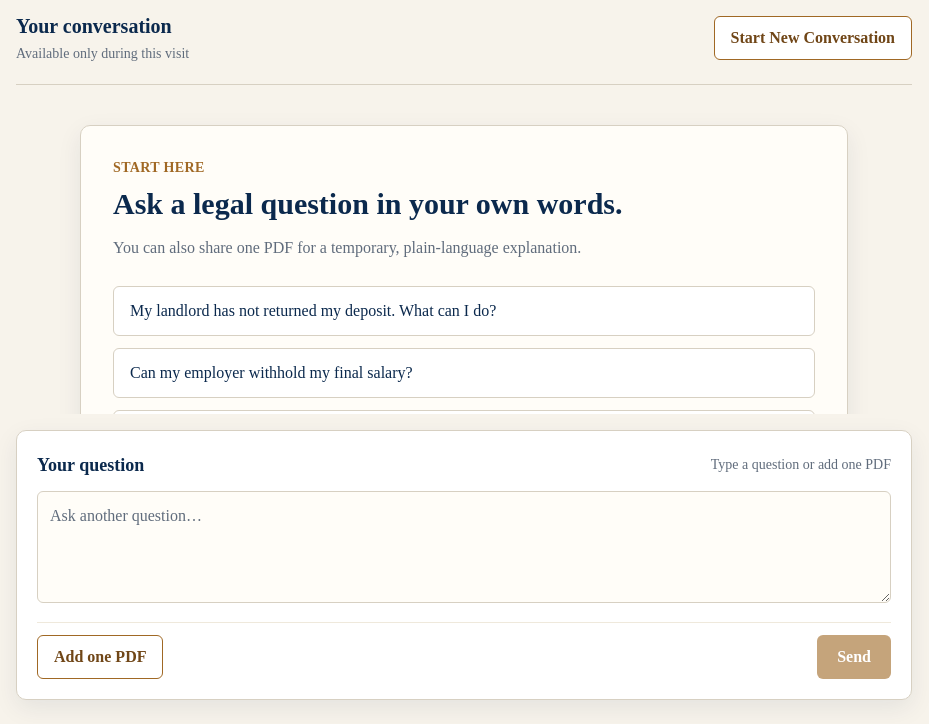
PublicAsk › never renders a caught value, including in accessibility attributes
Type "What can I do?" into the text box labelled "Your question" at [464, 547], box [37,491,891,603]
Then press Enter
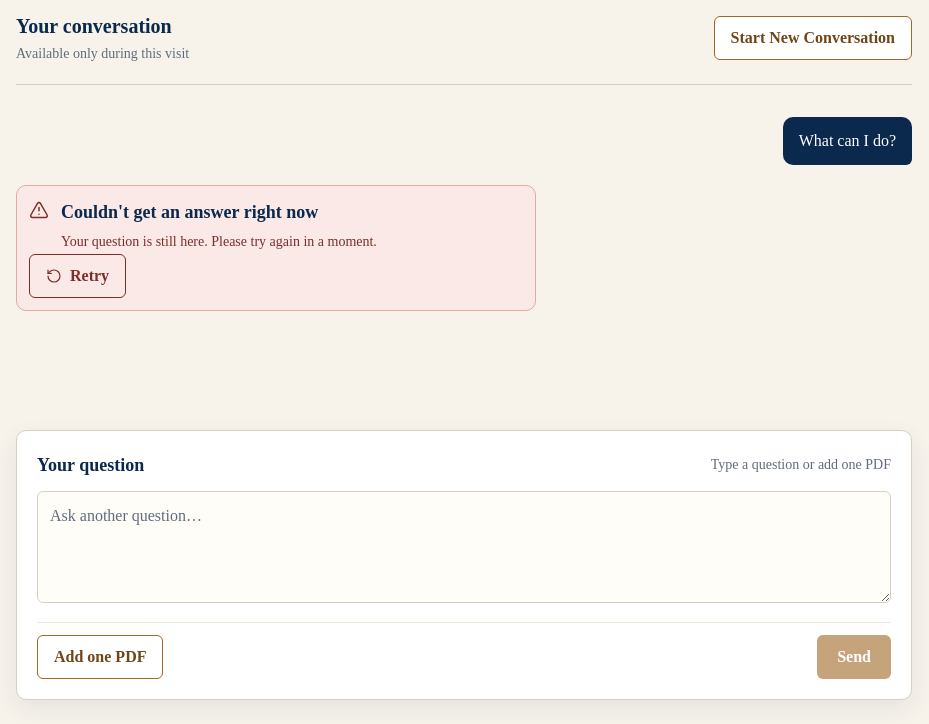
Expected: the message that starts with "Couldn't get an answer right now" is shown, [61,202,318,222]
Expected: the message that starts with "Couldn't get an answer right now" shows "Your question is still here. Please try again in a moment.", [61,234,377,249]
